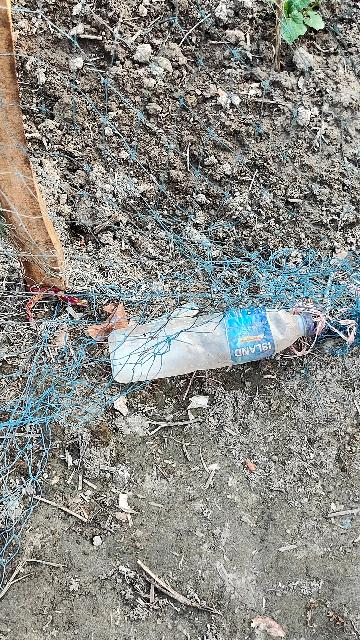bottle: (92, 311, 334, 377)
